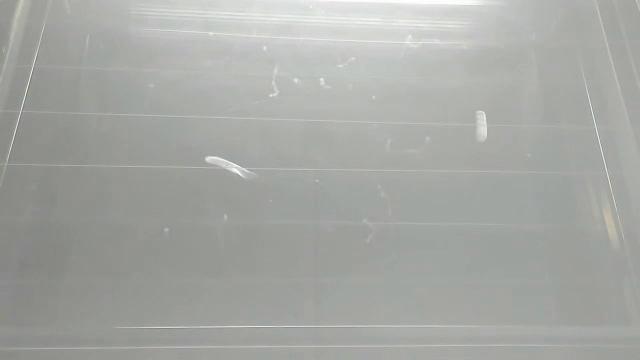alpha: (202, 152, 259, 183), (471, 106, 493, 144)
